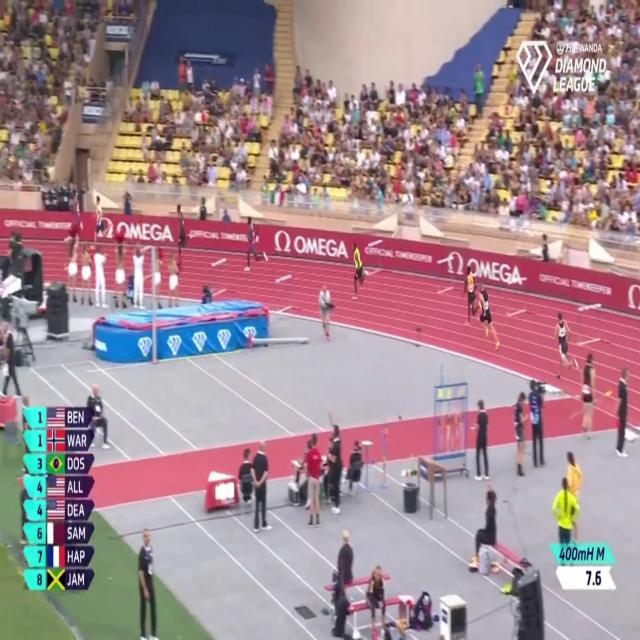athlete: (552, 303, 576, 392), (174, 200, 195, 278), (245, 212, 267, 282), (88, 188, 108, 262), (461, 261, 481, 335), (478, 278, 500, 344), (351, 237, 370, 304), (70, 182, 86, 242)
hurdle: (576, 298, 605, 354), (506, 274, 532, 321), (135, 239, 160, 287), (434, 247, 456, 297), (366, 236, 386, 282), (276, 272, 295, 315), (211, 255, 227, 300)
